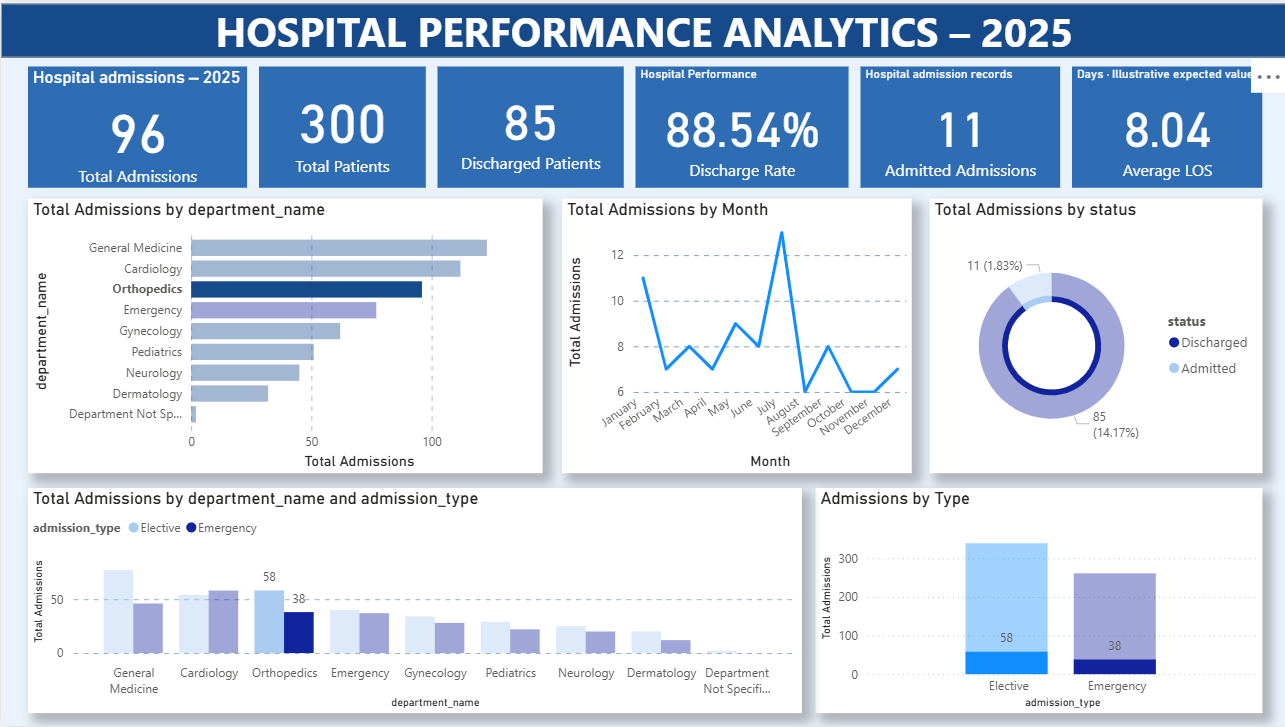

The page's visual inventory and layout, read from the dashboard file:
{"tool":"powerbi","page":{"name":"Page 1","canvas":[1280,720],"ordinal":0},"visuals":[{"type":"card","title":"Hospital admissions – 2025","fields":{"Values":["hospital_analytics admissions.Total Admissions"]},"box":[26.9,64.2,217.9,120.9],"z":0},{"type":"card","title":"Total Patients","fields":{"Values":["hospital_analytics admissions.Total Patients"]},"box":[256.7,64.2,165.7,120.9],"z":1000},{"type":"donutChart","fields":{"Category":["hospital_analytics admissions.status"],"Y":["hospital_analytics admissions.Total Admissions"]},"box":[923.9,195.5,331.3,273.1],"z":2000},{"type":"card","title":"Hospital Performance","fields":{"Values":["hospital_analytics admissions.Discharge Rate"]},"box":[631.3,64.2,211.9,120.9],"z":3000},{"type":"card","title":"Hospital admission records","fields":{"Values":["hospital_analytics admissions.Admitted Admissions"]},"box":[855.2,64.2,198.5,120.9],"z":4000},{"type":"card","fields":{"Values":["hospital_analytics admissions.Discharged Patients"]},"box":[434.3,64.2,185.1,120.9],"z":5000},{"type":"card","title":"Days · Illustrative expected value","fields":{"Values":["hospital_analytics admissions.Average LOS"]},"box":[1065.7,64.2,189.6,120.9],"z":6000},{"type":"clusteredBarChart","fields":{"Category":["hospital_analytics departments.department_name"],"Y":["hospital_analytics admissions.Total Admissions"]},"box":[26.9,195.5,511.9,273.1],"z":7000},{"type":"lineChart","fields":{"Category":["hospital_analytics admissions.admission_date.Variation.Date Hierarchy.Month"],"Y":["hospital_analytics admissions.Total Admissions"]},"box":[558.2,195.5,347.8,273.1],"z":8000},{"type":"clusteredColumnChart","title":"Admissions by Type","fields":{"Category":["hospital_analytics admissions.admission_type"],"Y":["hospital_analytics admissions.Total Admissions"]},"box":[810.4,483.6,444.8,223.9],"z":9000},{"type":"clusteredColumnChart","fields":{"Y":["hospital_analytics admissions.Total Admissions"],"Series":["hospital_analytics admissions.admission_type"],"Category":["hospital_analytics departments.department_name"]},"box":[26.9,483.6,770.1,223.9],"z":10000},{"type":"shape","title":"HOSPITAL PERFORMANCE ANALYTICS – 2025","box":[0,1.5,1280.6,53.7],"z":11000}]}

Visuals, with their boxes in screenshot pixels (x1, y1, x2, y2), scaled from the page's 1280x720 canvas onto the 1285x727 screenshot:
"Hospital admissions – 2025" card: <box>27,65,246,187</box>
"Total Patients" card: <box>258,65,424,187</box>
donutChart - hospital_analytics admissions.status x hospital_analytics admissions.Total Admissions: <box>928,197,1260,473</box>
"Hospital Performance" card: <box>634,65,846,187</box>
"Hospital admission records" card: <box>859,65,1058,187</box>
card - hospital_analytics admissions.Discharged Patients: <box>436,65,622,187</box>
"Days · Illustrative expected value" card: <box>1070,65,1260,187</box>
clusteredBarChart - hospital_analytics departments.department_name x hospital_analytics admissions.Total Admissions: <box>27,197,541,473</box>
lineChart - hospital_analytics admissions.admission_date.Variation.Date Hierarchy.Month x hospital_analytics admissions.Total Admissions: <box>560,197,910,473</box>
"Admissions by Type" clusteredColumnChart: <box>814,488,1260,714</box>
clusteredColumnChart - hospital_analytics admissions.Total Admissions x hospital_analytics admissions.admission_type: <box>27,488,800,714</box>
"HOSPITAL PERFORMANCE ANALYTICS – 2025" shape: <box>0,2,1284,56</box>
